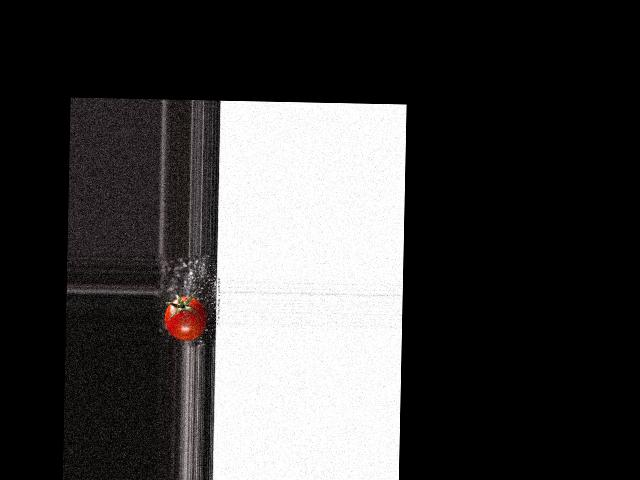tomato: (164, 296, 207, 340)
